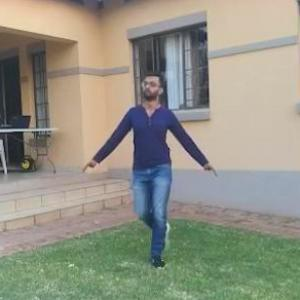land: (85, 74, 216, 265)
